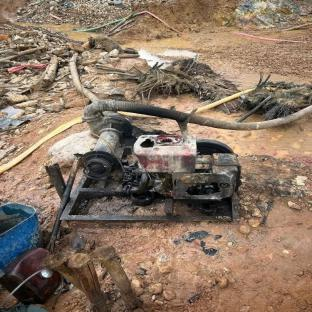ProcessingEquipment: (45, 99, 261, 225)
